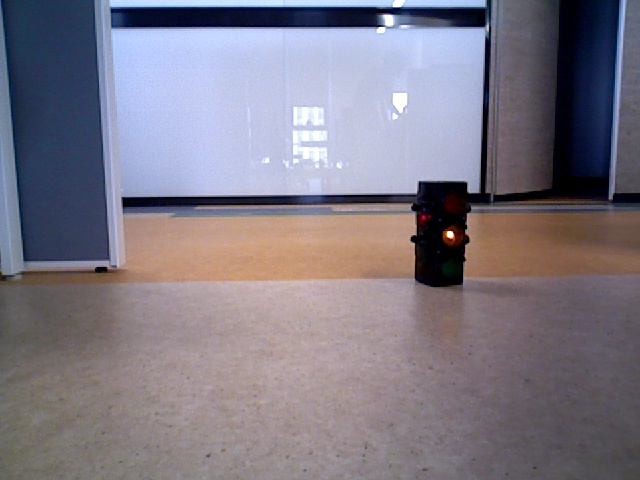yellow: (417, 184, 460, 282)
